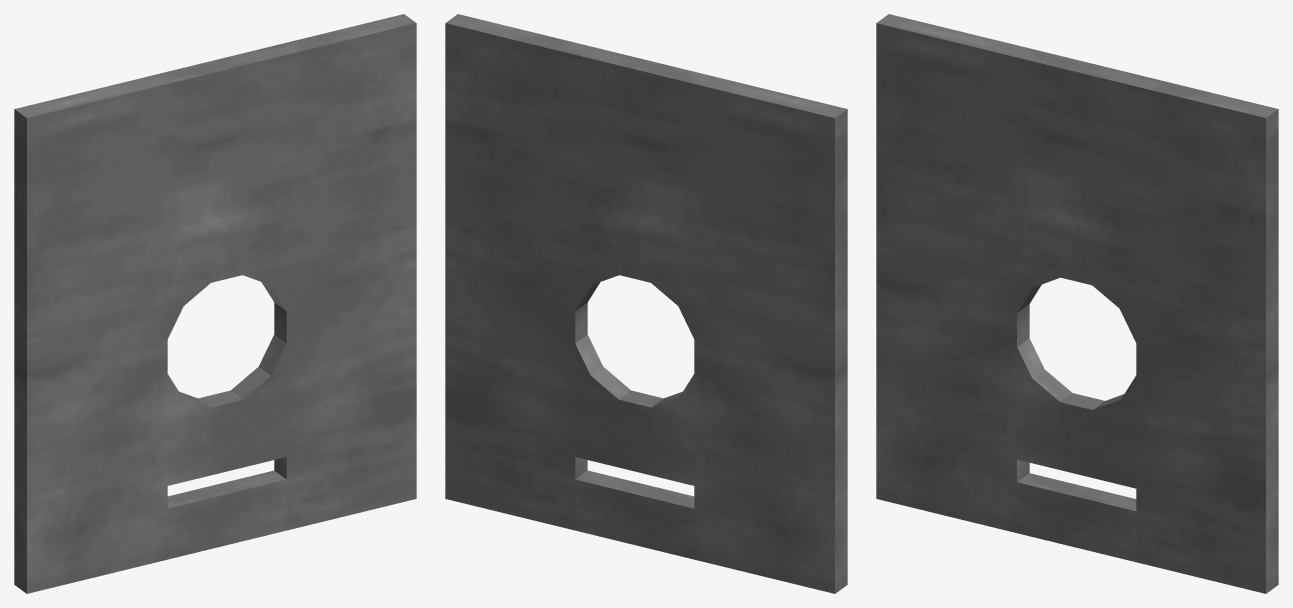
The model's file is TelWin.glb.
3 views of the same model, side by side, from view 1: azimuth 30°, elevation 25°; view 2: azimuth 150°, elevation 25°; view 3: azimuth 330°, elevation 25° (orthographic).
Parts seen in each view (by area): view 1: TelWin; view 2: TelWin; view 3: TelWin.
Boxes of the visible parts, left/top/right/bottom form: TelWin: left=14, top=14, right=416, bottom=593; TelWin: left=445, top=14, right=847, bottom=593; TelWin: left=876, top=14, right=1278, bottom=593.
Bounding box in the file's own units: 72 × 84 × 4.
1 material, 1 textured.
